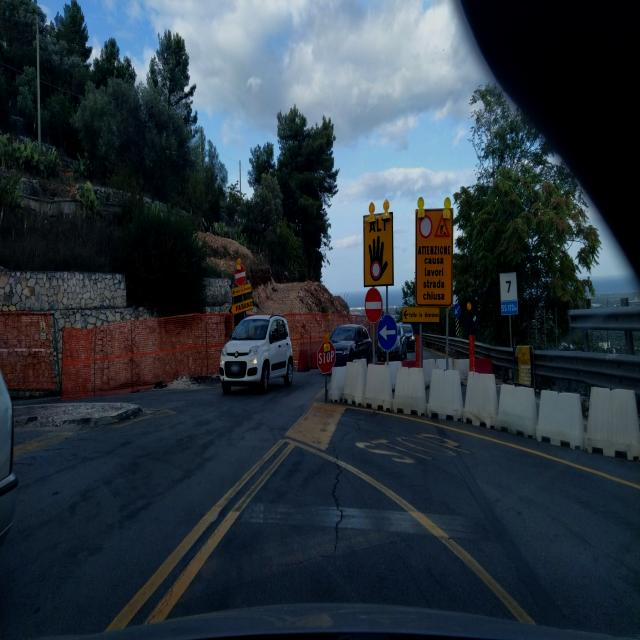car: (219, 312, 295, 395), (330, 323, 373, 369)
